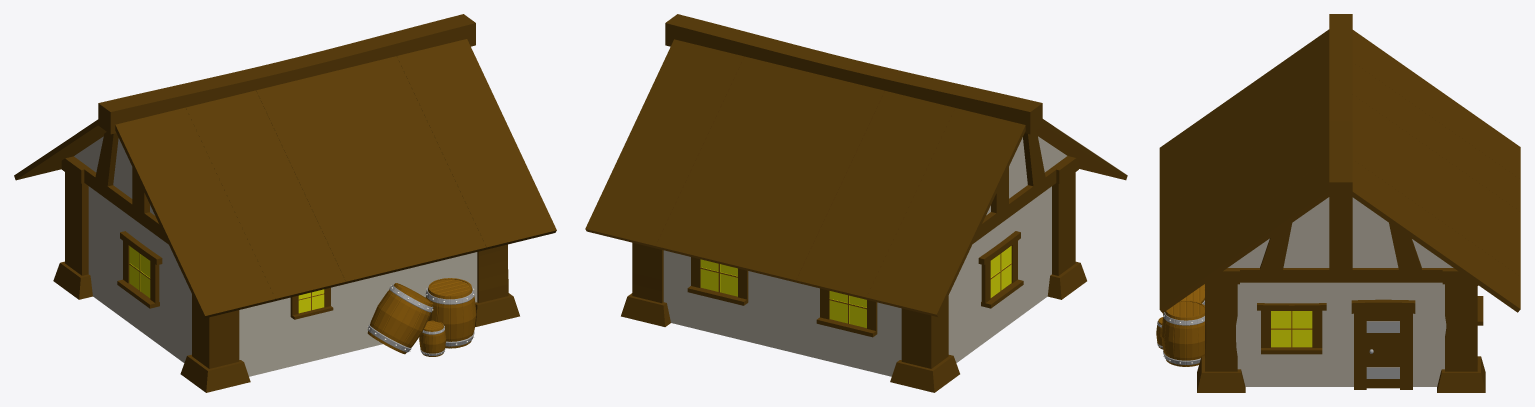
The model's file is HOUSE with Barrels.fbx.
3 renders of one model, left to right at view 1: azimuth 30°, elevation 25°; view 2: azimuth 150°, elevation 25°; view 3: azimuth 270°, elevation 25°, orthographic. The views are drawn at different scales.
Parts seen in each view (by area): view 1: WOOD.001; view 2: WOOD.001; view 3: WOOD.001.
Boxes of the visible parts, <box> form: WOOD.001: <box>14,14,556,392</box>; WOOD.001: <box>585,14,1127,392</box>; WOOD.001: <box>1156,14,1520,392</box>.
Bounding box in the file's own units: 368 × 227 × 337.
